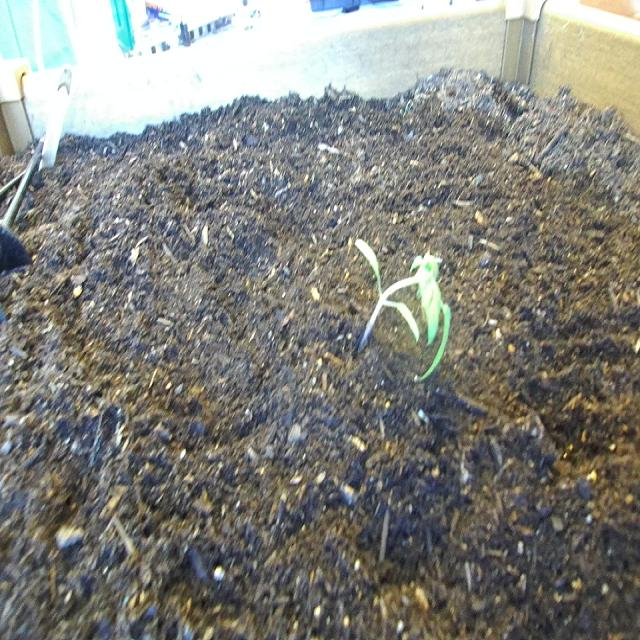Healthy: (344, 205, 460, 414)
